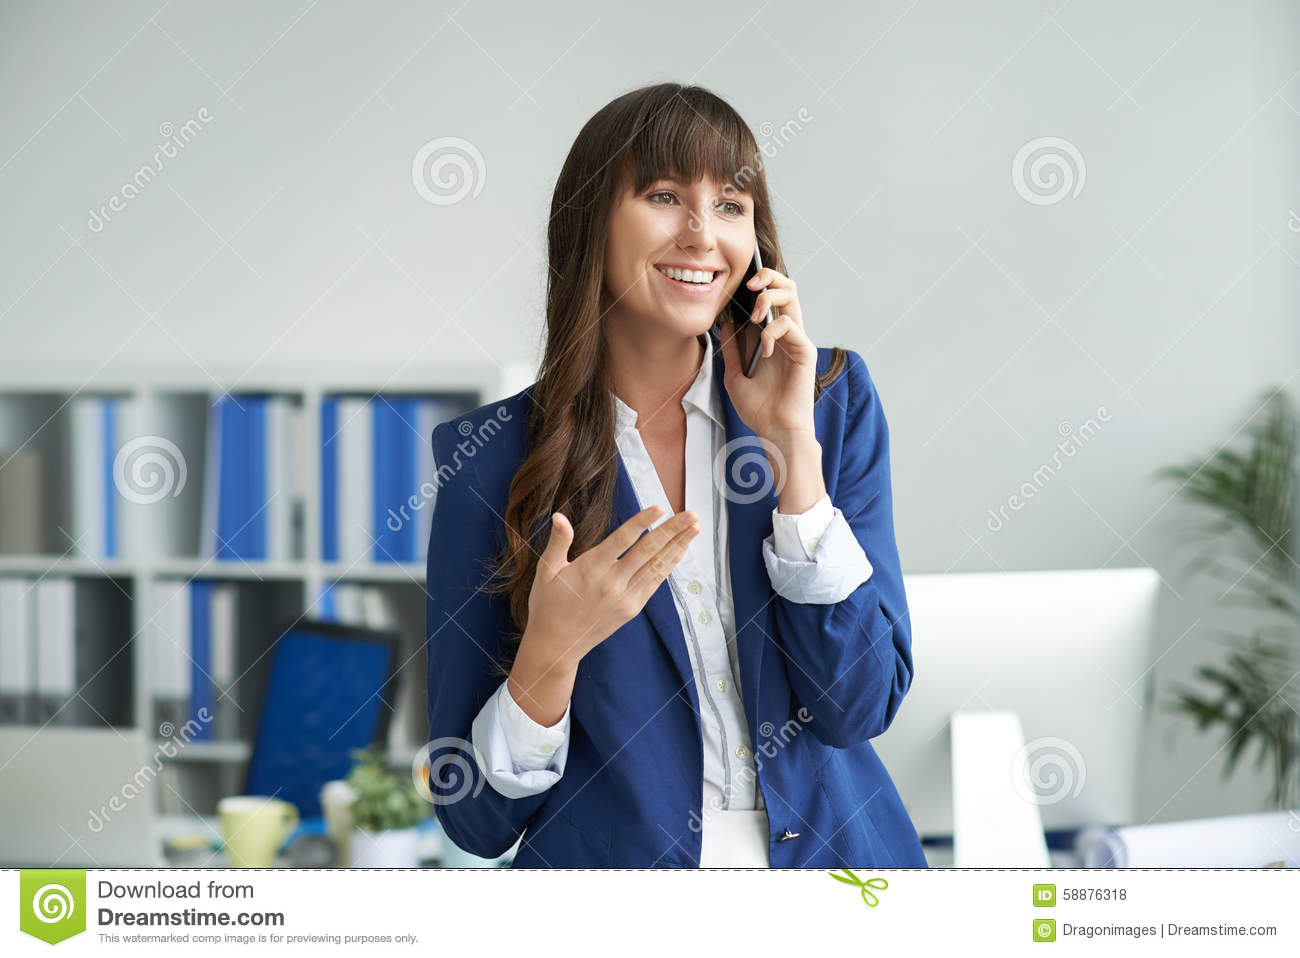phone: (732, 237, 781, 386)
talk: (639, 170, 819, 462)
